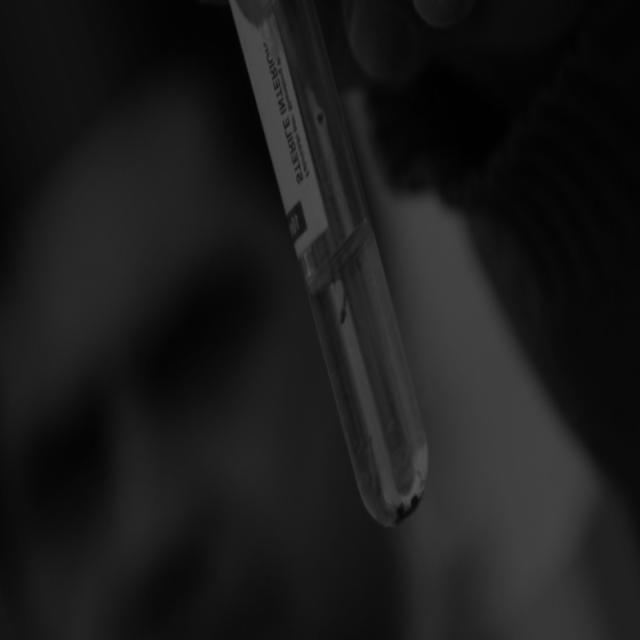larvas: (364, 436, 382, 497), (334, 275, 346, 322)
